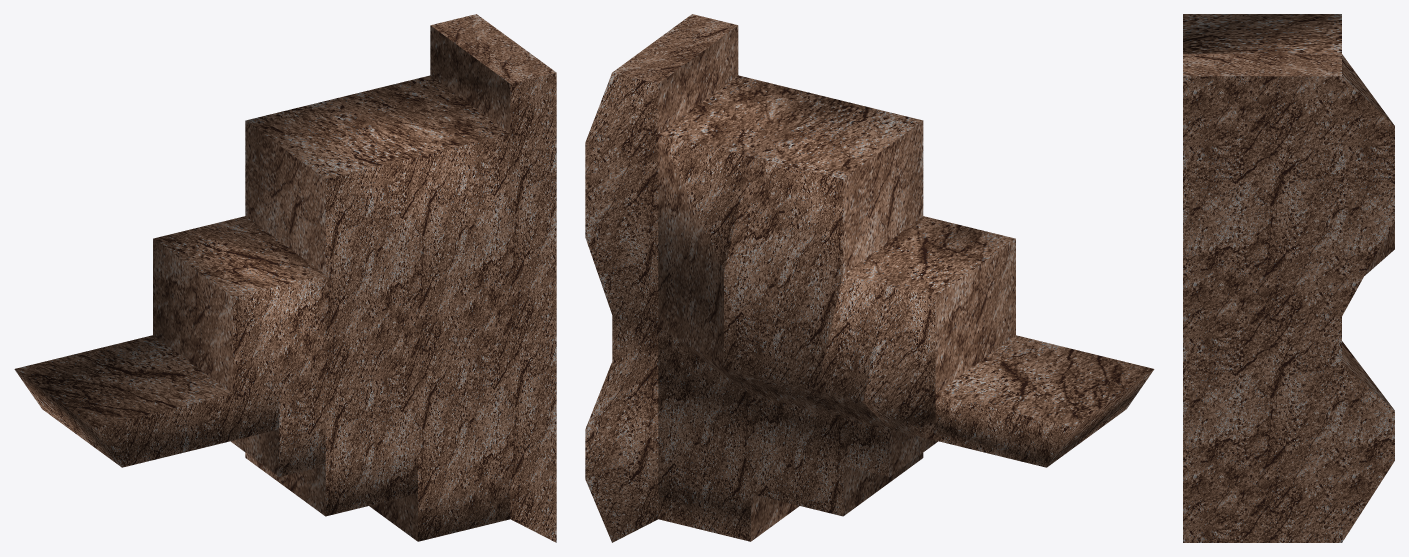
Rendered from Cave_Mesh_1.fbx.
3 views of the same model, side by side, from view 1: azimuth 30°, elevation 25°; view 2: azimuth 150°, elevation 25°; view 3: azimuth 270°, elevation 25° (orthographic).
Visible parts, largest first — view 1: Cave.mesh; view 2: Cave.mesh; view 3: Cave.mesh.
Part boxes in pixels (x1,y1,x2,y2): Cave.mesh: [14, 14, 556, 542]; Cave.mesh: [585, 14, 1154, 542]; Cave.mesh: [1183, 14, 1394, 542].
Size of the model in its own units: 1000 by 972 by 400.
